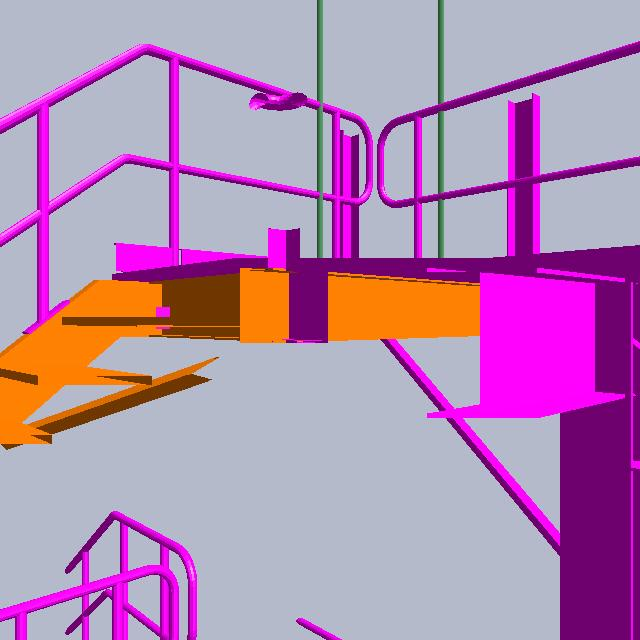Poste: (310, 1, 326, 272), (435, 1, 449, 271)
Soporte: (499, 90, 545, 289), (328, 124, 366, 275)
